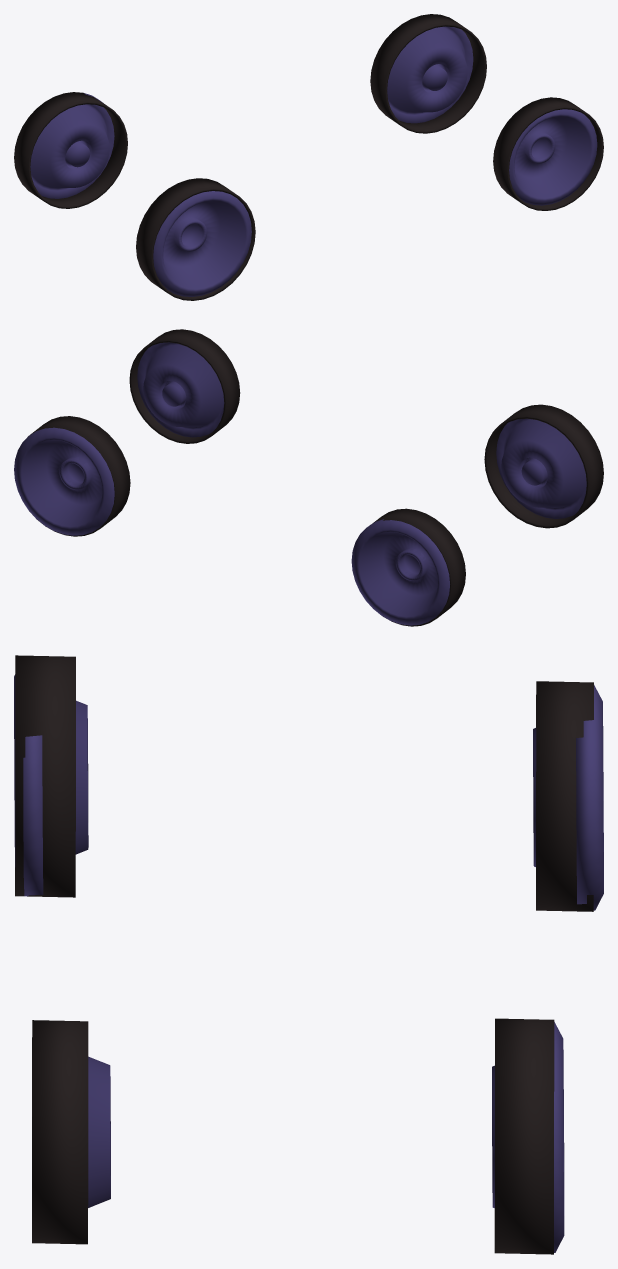
File: roue.obj
3 renders of one model, top to bottom at view 1: azimuth 30°, elevation 25°; view 2: azimuth 150°, elevation 25°; view 3: azimuth 270°, elevation 25°, orthographic. The views are drawn at different scales.
Parts seen in each view (by area): view 1: Cylinder.002, Cylinder.003, Cylinder, Cylinder.001, Cylinder.005, Cylinder.006, Cylinder.007, Cylinder.004; view 2: Cylinder, Cylinder.001, Cylinder.002, Cylinder.003, Cylinder.007, Cylinder.004, Cylinder.005, Cylinder.006; view 3: Cylinder.005, Cylinder.004, Cylinder.007, Cylinder.006, Cylinder.001, Cylinder.002, Cylinder.003, Cylinder.
Boxes of the visible parts, left/top/right/bottom form: Cylinder.002: left=153, top=191, right=251, bottom=296; Cylinder.003: left=509, top=109, right=597, bottom=205; Cylinder: left=387, top=26, right=473, bottom=123; Cylinder.001: left=30, top=92, right=114, bottom=198; Cylinder.005: left=370, top=14, right=486, bottom=133; Cylinder.006: left=14, top=92, right=127, bottom=208; Cylinder.007: left=136, top=178, right=255, bottom=300; Cylinder.004: left=493, top=97, right=603, bottom=210; Cylinder: left=14, top=427, right=114, bottom=535; Cylinder.001: left=351, top=519, right=449, bottom=625; Cylinder.002: left=496, top=418, right=586, bottom=518; Cylinder.003: left=137, top=342, right=224, bottom=437; Cylinder.007: left=484, top=404, right=603, bottom=528; Cylinder.004: left=129, top=329, right=240, bottom=443; Cylinder.005: left=28, top=416, right=130, bottom=536; Cylinder.006: left=373, top=508, right=465, bottom=626; Cylinder.005: left=494, top=1018, right=554, bottom=1254; Cylinder.004: left=32, top=1020, right=88, bottom=1244; Cylinder.007: left=15, top=655, right=75, bottom=897; Cylinder.006: left=536, top=681, right=593, bottom=911; Cylinder.001: left=533, top=685, right=603, bottom=910; Cylinder.002: left=14, top=674, right=88, bottom=896; Cylinder.003: left=88, top=1056, right=110, bottom=1207; Cylinder: left=492, top=1022, right=564, bottom=1252.
Size of the model in its own units: 7.17 by 1.75 by 4.02.
